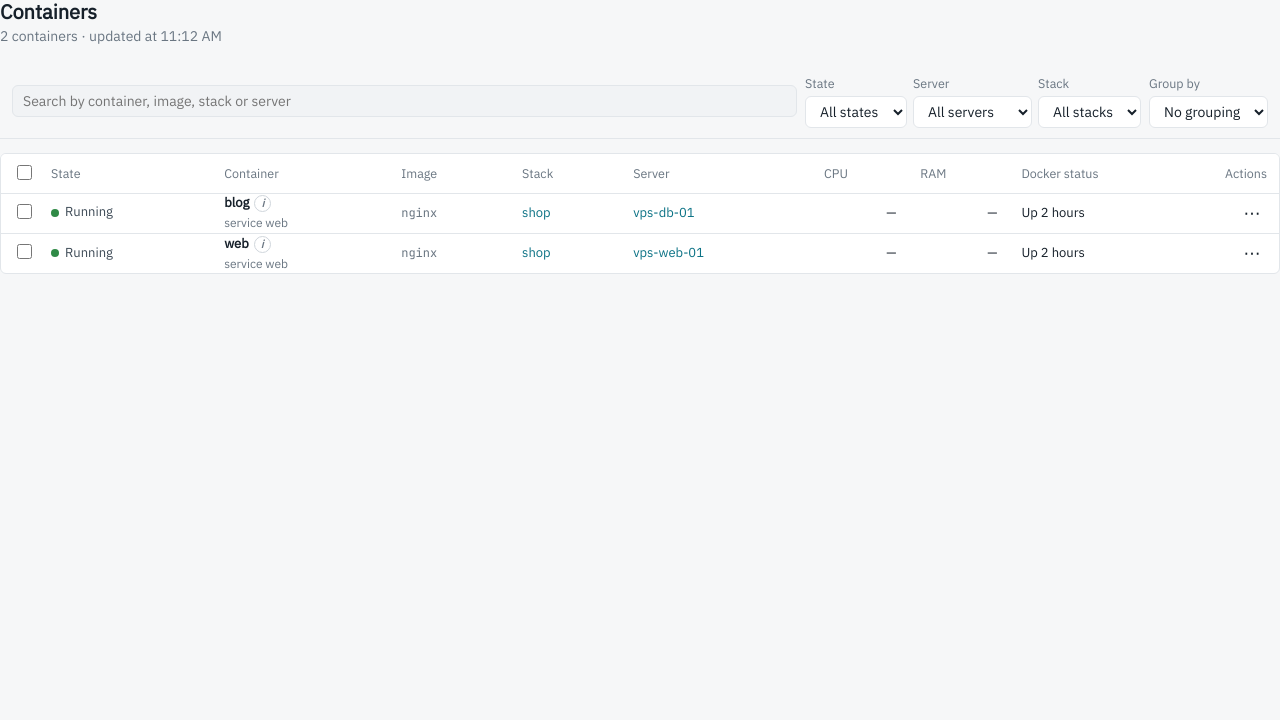
Scenario: Containers › confirms and runs bulk Stop sequentially with one summary toast
Expected: the text "blog" is shown, [224,194,249,213]
Click the checkbox named "Select all". click: (24, 173)
box: [17,165,32,180]
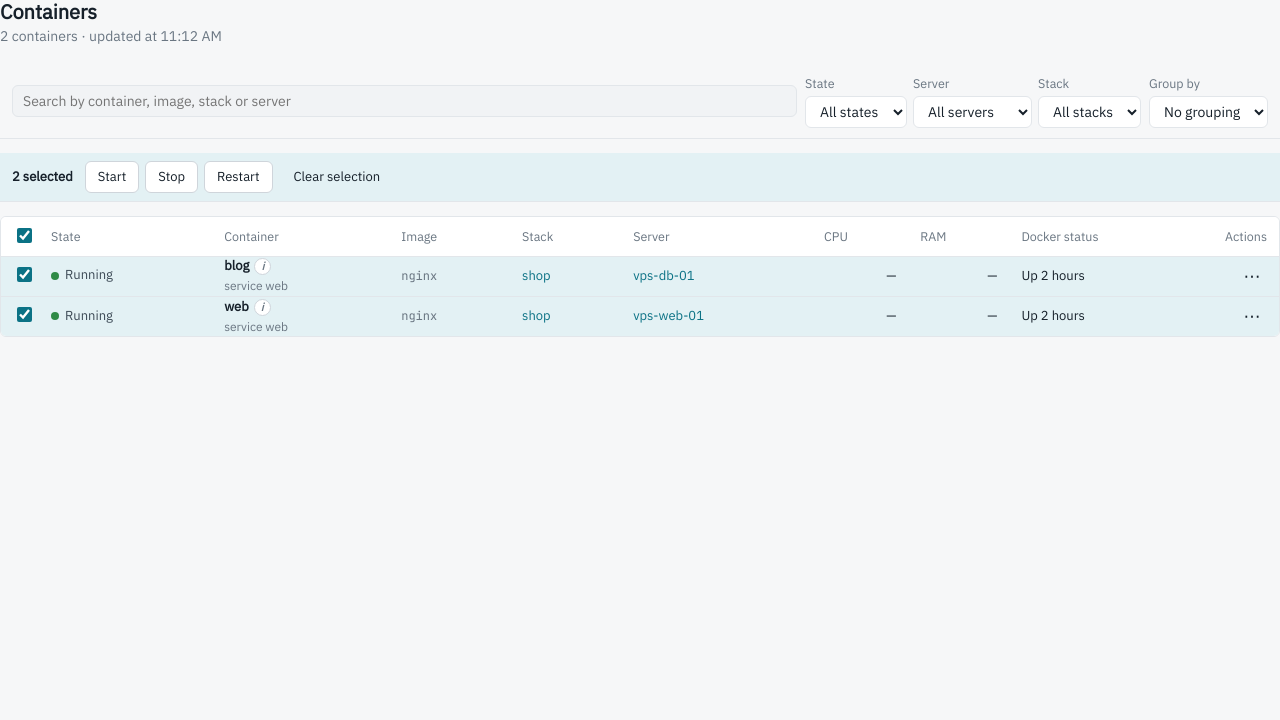
Click the button "Stop". click: (172, 177)
box: [145,161,198,193]
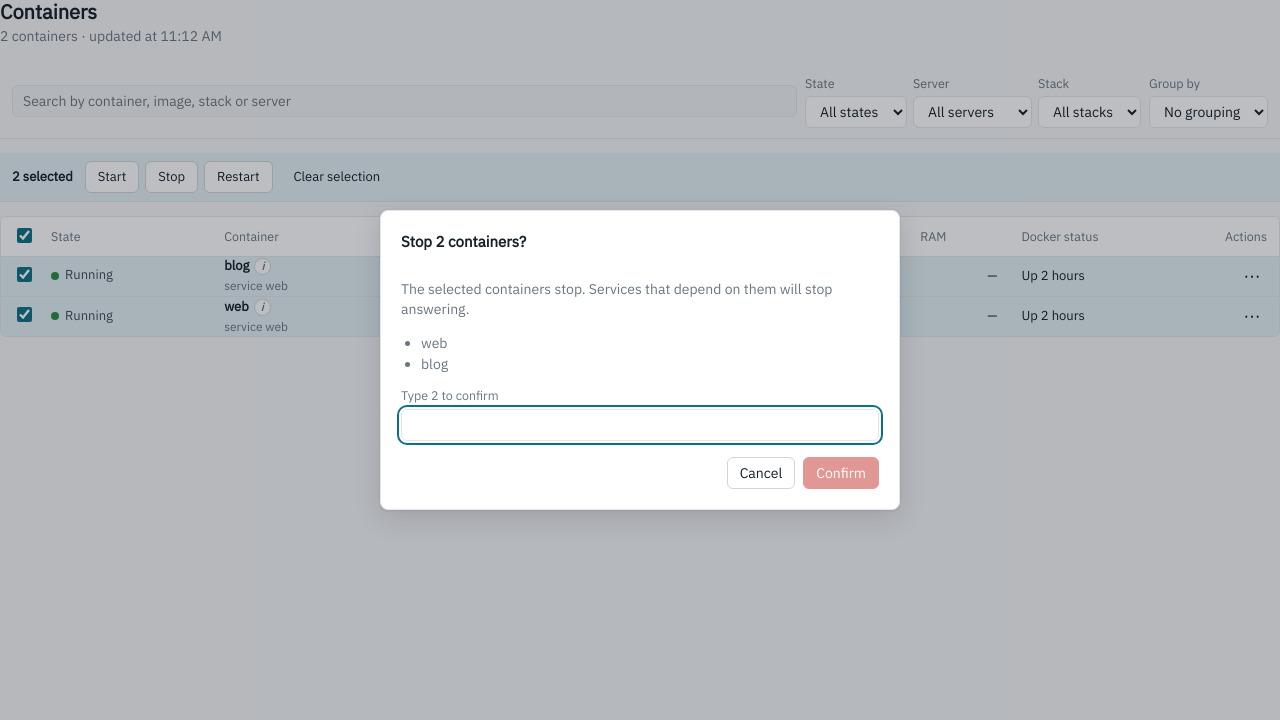
Result: the heading "Stop 2 containers?" is shown at [401,232,526,251]
Type "2" into the field labelled "Type 2 to confirm". click: (640, 425)
box: [401,409,879,441]
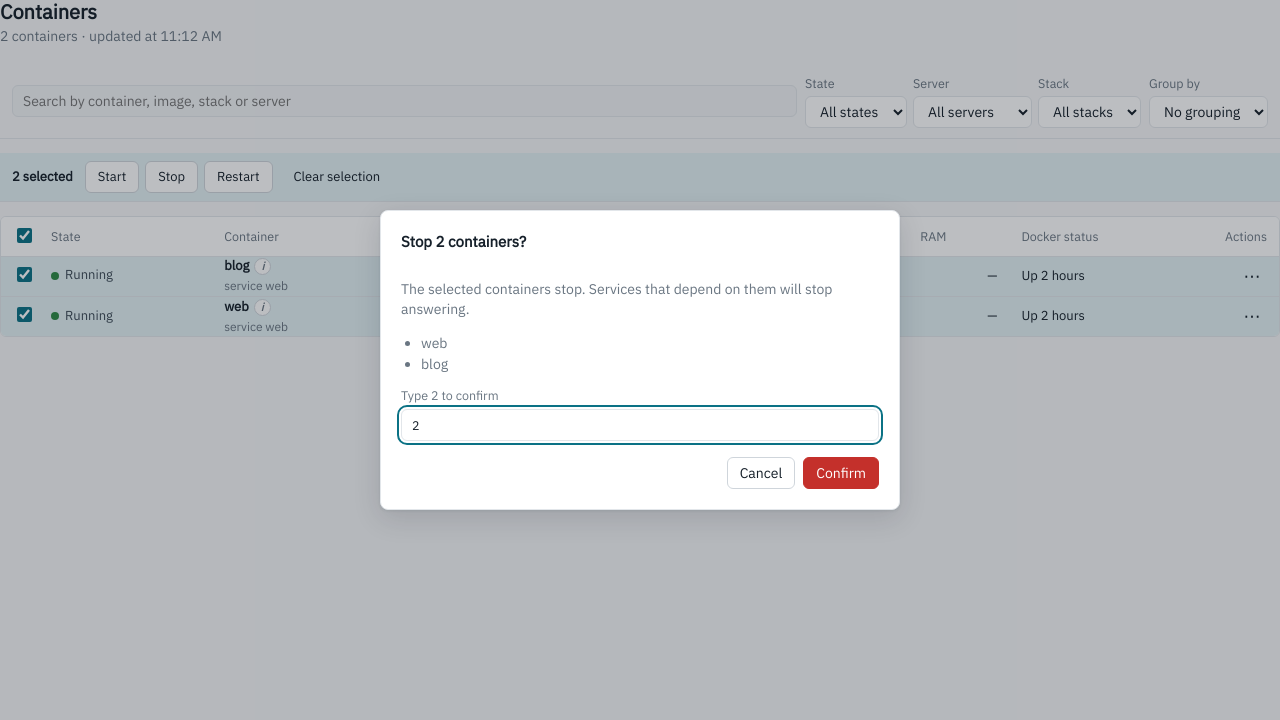
Click the button "Confirm". click: (841, 473)
box: [803,457,879,489]
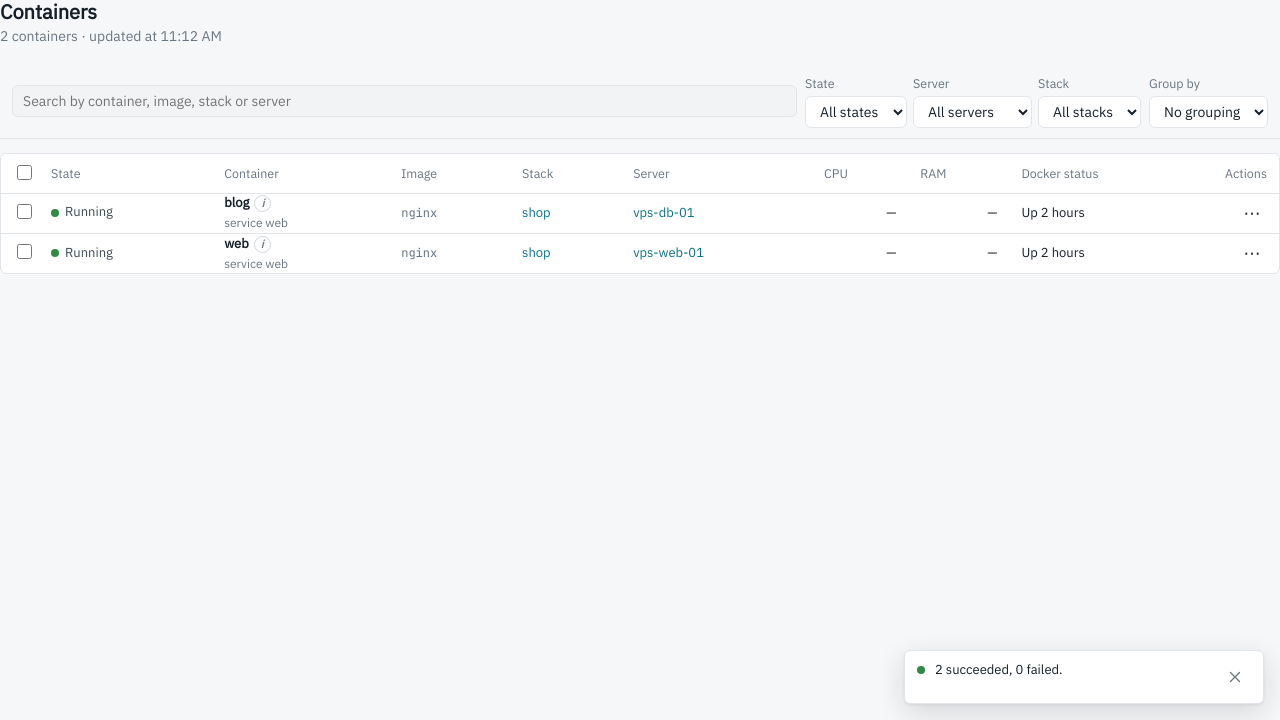
Result: the text "2 succeeded, 0 failed." is shown at [935,661,1063,678]
